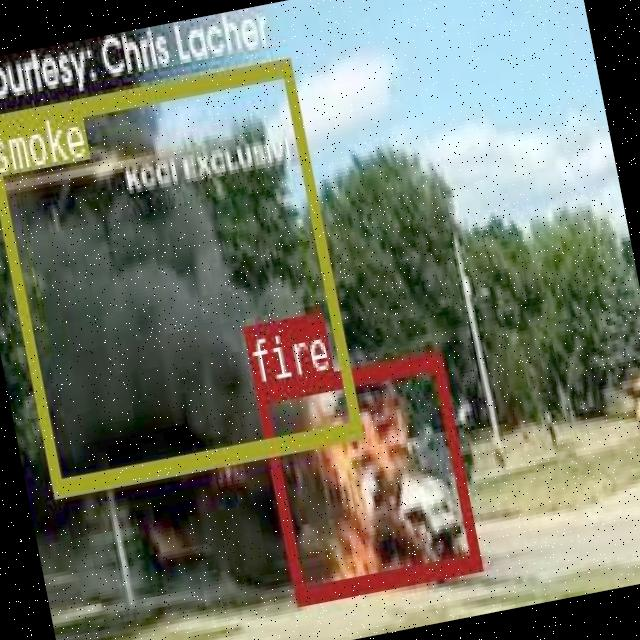fire: (252, 348, 481, 604)
smoke: (0, 56, 360, 493)
